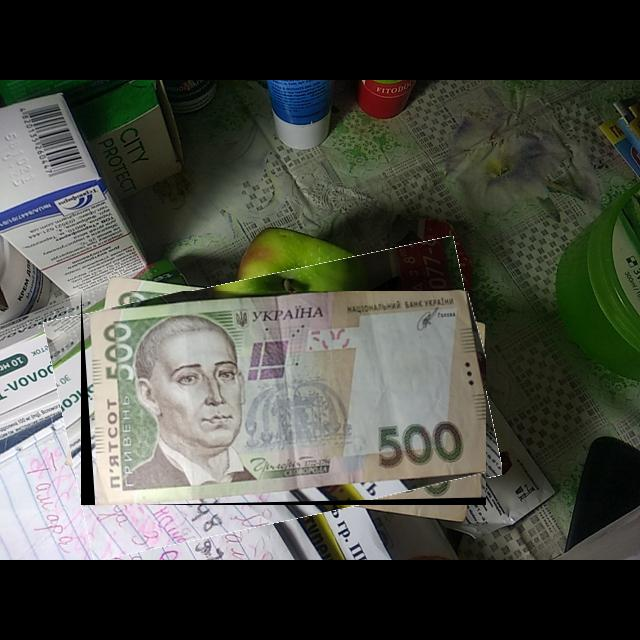500uah: (88, 291, 487, 506)
